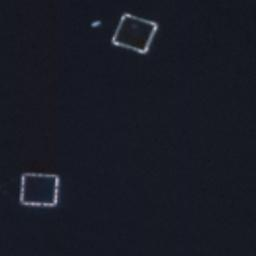square_solid: (106, 9, 163, 59), (16, 168, 64, 213)
